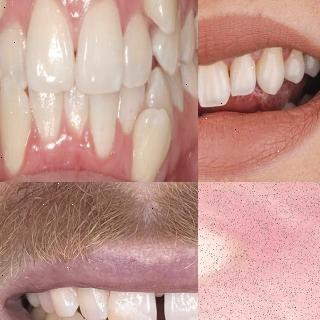Gum Swelling: (198, 182, 315, 320)
maligned: (0, 74, 41, 178), (136, 108, 180, 182), (152, 5, 188, 78), (142, 66, 178, 128), (0, 19, 30, 85), (141, 0, 190, 28)
